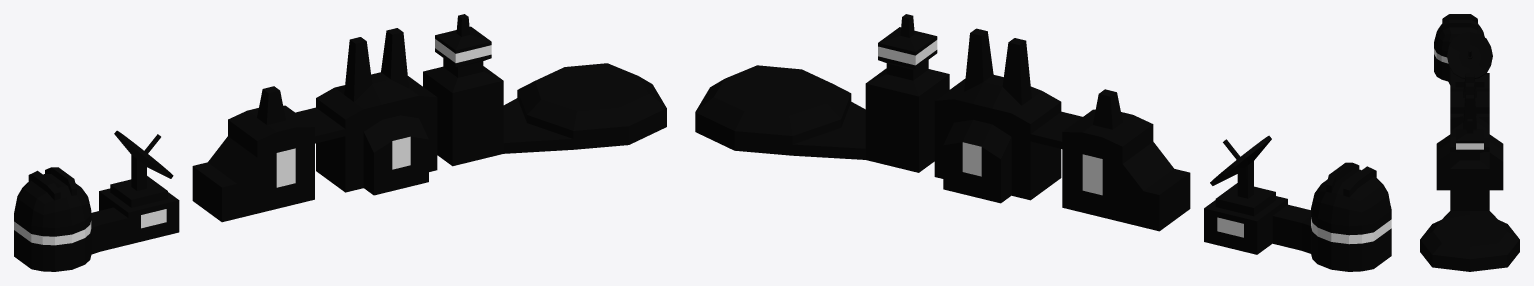
File: Buildings.fbx
3 renders of one model, left to right at view 1: azimuth 30°, elevation 25°; view 2: azimuth 150°, elevation 25°; view 3: azimuth 270°, elevation 25°, orthographic. The views are drawn at different scales.
Visible parts, largest first — view 1: Factory, LaunchPad, Observatory; view 2: Factory, LaunchPad, Observatory; view 3: LaunchPad, Factory, Observatory.
Boxes of the visible parts, <box> form: Factory: <box>192,28,437,222</box>; LaunchPad: <box>423,14,666,166</box>; Observatory: <box>14,130,179,271</box>; Factory: <box>934,28,1190,231</box>; LaunchPad: <box>695,14,949,172</box>; Observatory: <box>1204,135,1391,271</box>; LaunchPad: <box>1420,119,1519,271</box>; Factory: <box>1436,73,1503,190</box>; Observatory: <box>1434,14,1492,88</box>.
Size of the model in its own units: 2501 by 505 by 504.
